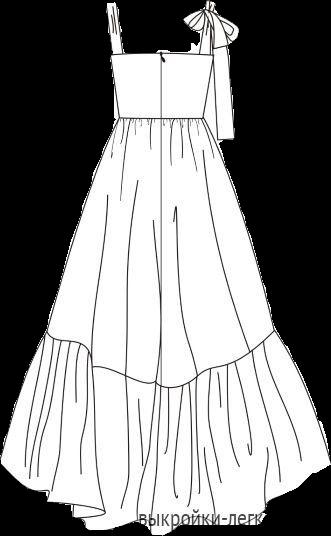Bodice: (106, 0, 216, 120)
Hemline: (0, 460, 330, 535)
Neckline: (113, 0, 211, 58)
Skirt: (1, 120, 330, 534)
Waistline: (45, 325, 278, 388), (115, 115, 206, 124)
